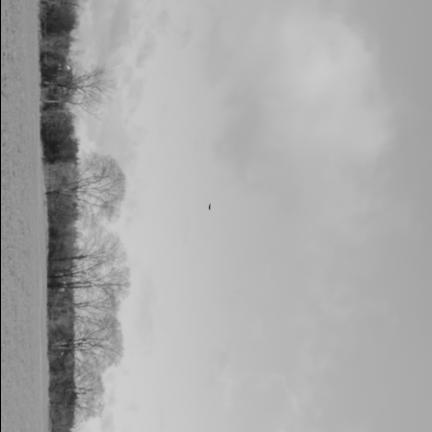Shahed: (207, 202, 211, 211)
